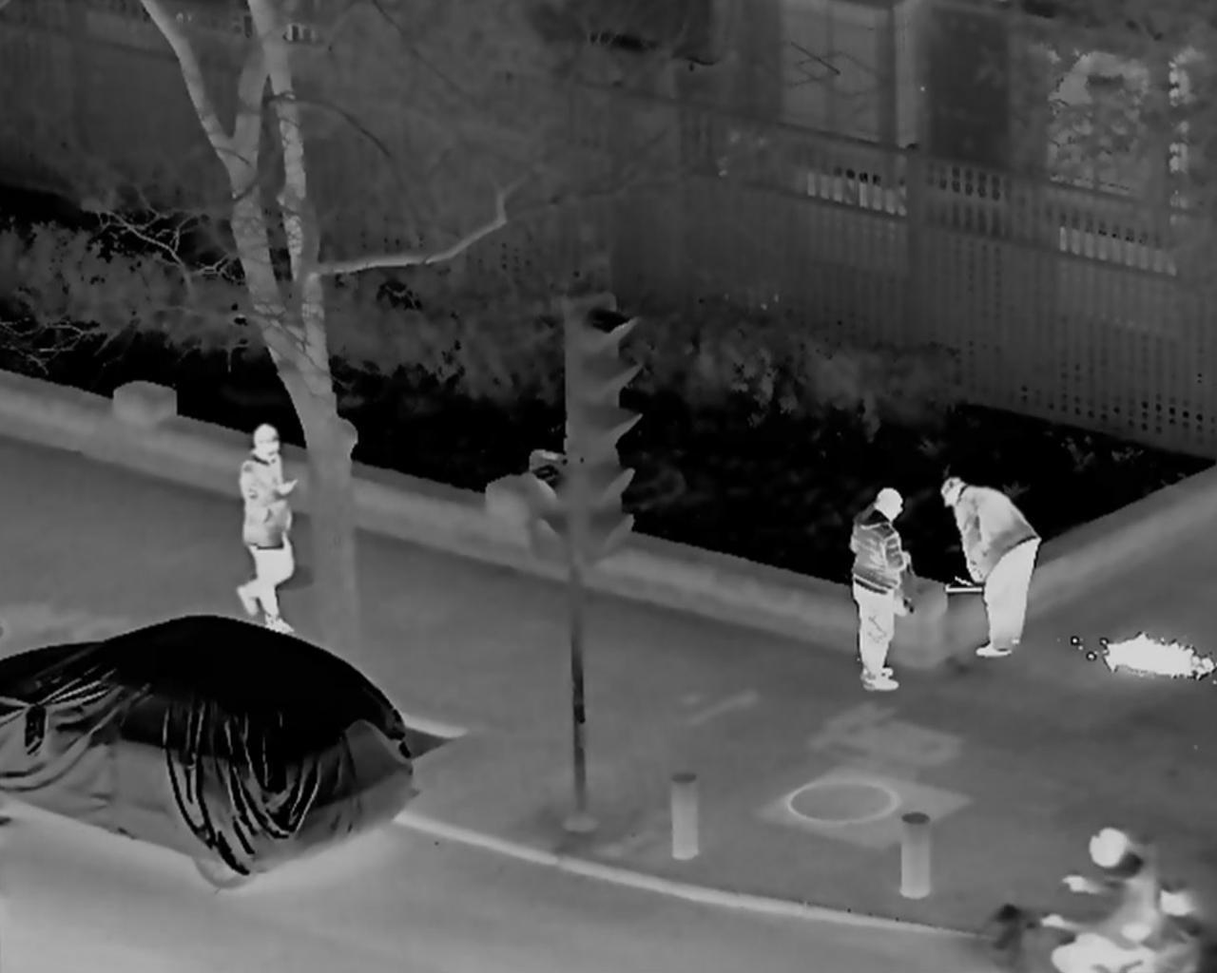person: (941, 479, 1040, 659), (235, 421, 302, 637), (1063, 826, 1149, 973), (847, 483, 907, 693), (1140, 880, 1207, 973)
